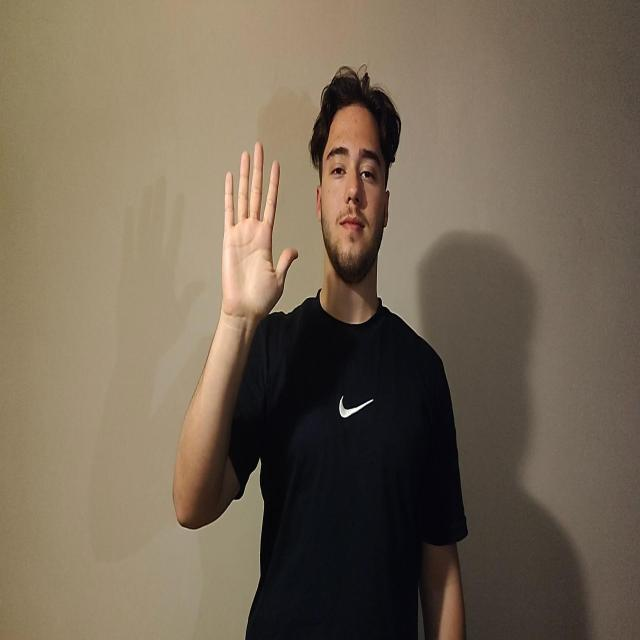hello: (220, 139, 298, 324)
